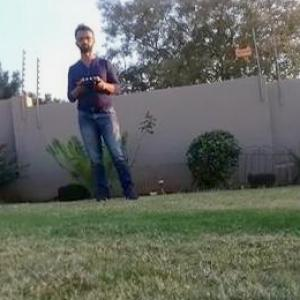follow: (65, 14, 144, 205)
